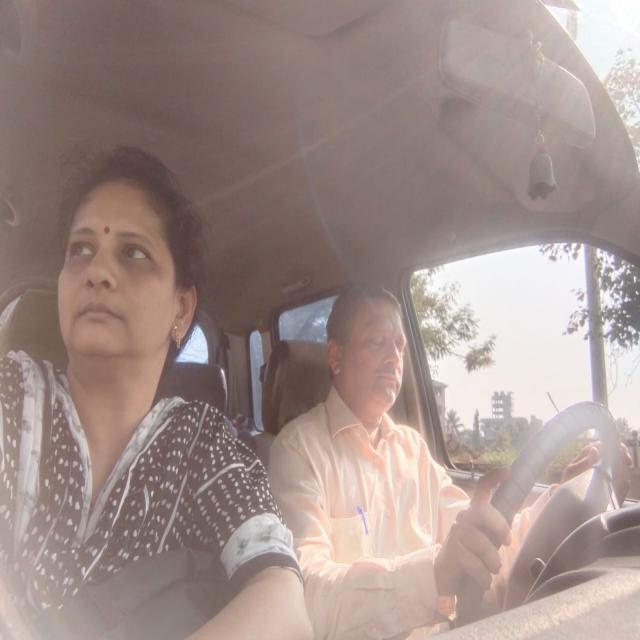drowsy: (306, 266, 430, 431)
person: (47, 116, 227, 414)
